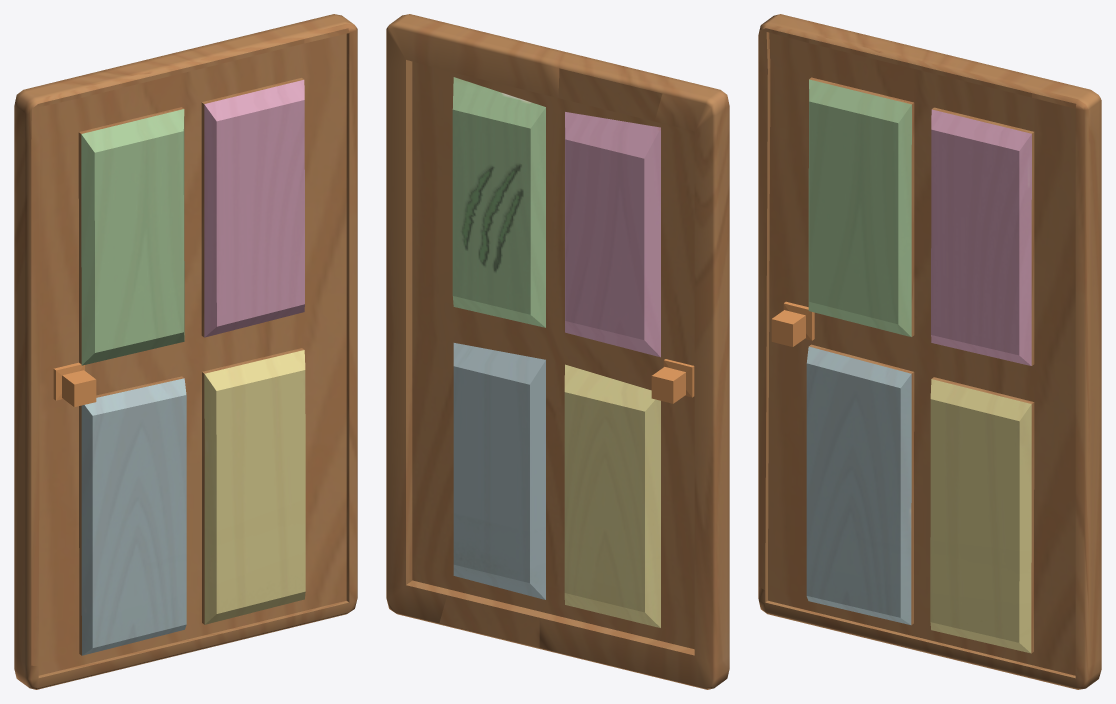
The model's file is door fbx.fbx.
3 renders of one model, left to right at view 1: azimuth 30°, elevation 25°; view 2: azimuth 150°, elevation 25°; view 3: azimuth 330°, elevation 25°, orthographic.
Parts seen in each view (by area): view 1: pCube1, pCube10; view 2: pCube1, pCube8; view 3: pCube1, pCube10.
Boxes of the visible parts, x1,y1,x2,y2 form: pCube1: (14, 14, 357, 689); pCube10: (53, 362, 96, 406); pCube1: (386, 14, 729, 689); pCube8: (651, 359, 694, 403); pCube1: (758, 14, 1101, 689); pCube10: (771, 301, 814, 346).
Bounding box in the file's own units: 6.1 × 10.42 × 1.37.
Materials: 1 (1 with a texture image).
